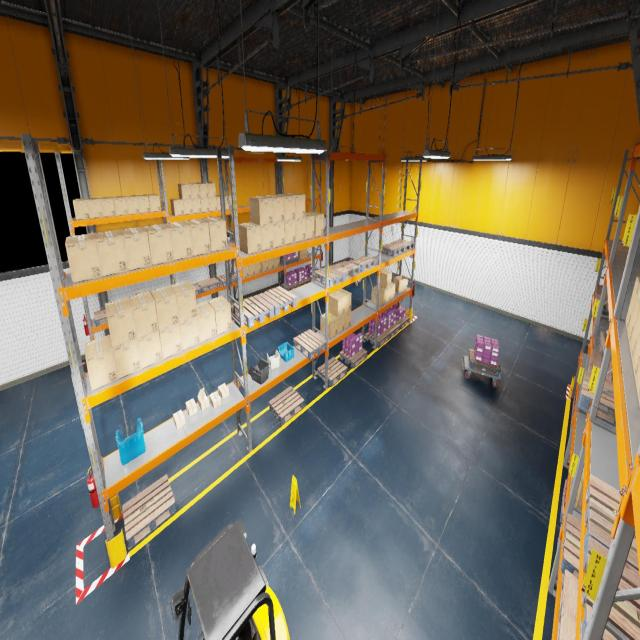box: (84, 334, 118, 391), (65, 233, 102, 283), (105, 297, 136, 348), (94, 230, 128, 276), (128, 291, 159, 338), (120, 227, 152, 270), (150, 286, 179, 330), (143, 224, 173, 265), (112, 339, 141, 379), (170, 280, 197, 322), (164, 221, 193, 260), (183, 219, 211, 256), (207, 296, 232, 335), (201, 216, 227, 252), (137, 331, 162, 368), (159, 323, 182, 359), (625, 277, 640, 332), (197, 301, 216, 343), (627, 286, 640, 346), (238, 222, 261, 254), (179, 316, 200, 351), (249, 196, 272, 225), (264, 195, 284, 223), (630, 307, 640, 361), (285, 193, 305, 219), (275, 194, 295, 220), (305, 212, 324, 237), (320, 312, 338, 338), (575, 465, 584, 510), (336, 288, 352, 313), (328, 292, 344, 317), (260, 223, 274, 251), (632, 334, 640, 381), (72, 199, 90, 219), (376, 269, 392, 289), (100, 197, 116, 217), (87, 198, 103, 218), (371, 285, 386, 306), (284, 219, 296, 245), (272, 222, 284, 248), (112, 196, 128, 215), (124, 195, 139, 214), (305, 213, 315, 240), (146, 194, 161, 212), (197, 388, 209, 410), (136, 195, 150, 213), (296, 217, 306, 242), (185, 398, 198, 417), (173, 410, 185, 429), (393, 276, 407, 292), (170, 199, 184, 215), (209, 391, 221, 409), (187, 183, 200, 199), (178, 183, 191, 199), (635, 365, 640, 403), (380, 286, 391, 303), (218, 383, 229, 399), (198, 182, 208, 198), (205, 182, 216, 196), (200, 197, 210, 212), (182, 199, 192, 214), (192, 198, 201, 214), (344, 310, 351, 329), (338, 314, 344, 334), (209, 197, 217, 211), (390, 282, 396, 300), (225, 195, 232, 209), (298, 249, 307, 259), (261, 260, 268, 272), (242, 265, 248, 278), (216, 195, 221, 210), (268, 258, 274, 270), (254, 262, 260, 274), (248, 264, 254, 276), (135, 290, 150, 294), (274, 256, 279, 268), (639, 401, 640, 407)
forklift: (170, 520, 290, 639)
pallets: (580, 537, 640, 639), (584, 474, 638, 570), (122, 474, 176, 549), (578, 370, 616, 427), (557, 570, 578, 640), (233, 294, 274, 328), (269, 386, 304, 425), (560, 514, 581, 578), (258, 286, 296, 315), (293, 330, 327, 360), (317, 357, 347, 387), (468, 348, 499, 376), (588, 349, 613, 381), (315, 267, 345, 287), (330, 261, 360, 279), (340, 348, 367, 368), (350, 255, 376, 272), (365, 331, 390, 347), (196, 277, 220, 292), (381, 243, 405, 257), (598, 332, 607, 364), (555, 529, 560, 586), (596, 294, 608, 317), (392, 239, 414, 251), (217, 273, 237, 286), (560, 480, 566, 523), (594, 284, 608, 302), (386, 322, 400, 338), (94, 309, 107, 326), (396, 316, 409, 330), (281, 283, 299, 290), (280, 257, 298, 264), (192, 283, 201, 295), (238, 296, 253, 303), (296, 279, 310, 286), (570, 411, 574, 434), (571, 394, 575, 416), (266, 286, 278, 292), (307, 276, 319, 282), (567, 451, 570, 464), (232, 302, 233, 313), (232, 236, 234, 240)
